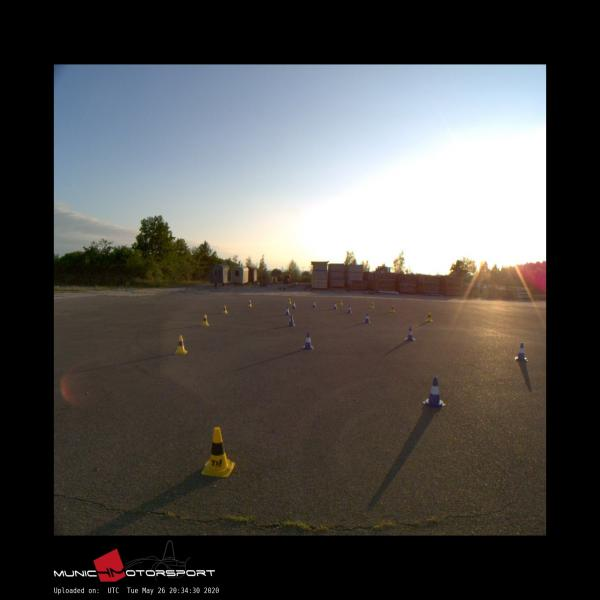blue_cone: (422, 376, 445, 407), (515, 342, 527, 361), (302, 331, 313, 350), (404, 326, 415, 340), (287, 314, 295, 326), (363, 313, 370, 323), (285, 306, 290, 315), (347, 305, 352, 313), (334, 302, 338, 310), (292, 301, 296, 308), (312, 301, 316, 307)
yellow_cone: (200, 426, 234, 476), (174, 334, 187, 354), (201, 314, 208, 326), (426, 311, 432, 321), (390, 304, 395, 312), (222, 305, 226, 314), (248, 300, 252, 307), (288, 298, 292, 304), (371, 301, 374, 308), (339, 300, 343, 305)
